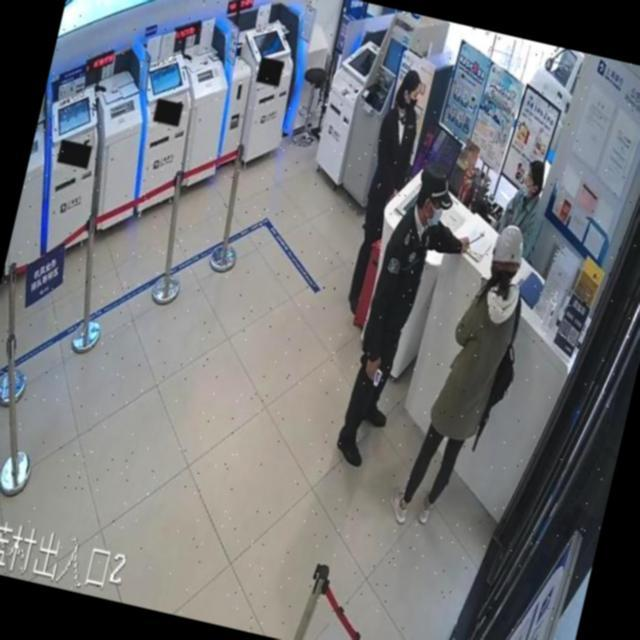person: (333, 159, 486, 481), (390, 214, 540, 542), (334, 64, 430, 326), (493, 153, 554, 260)
